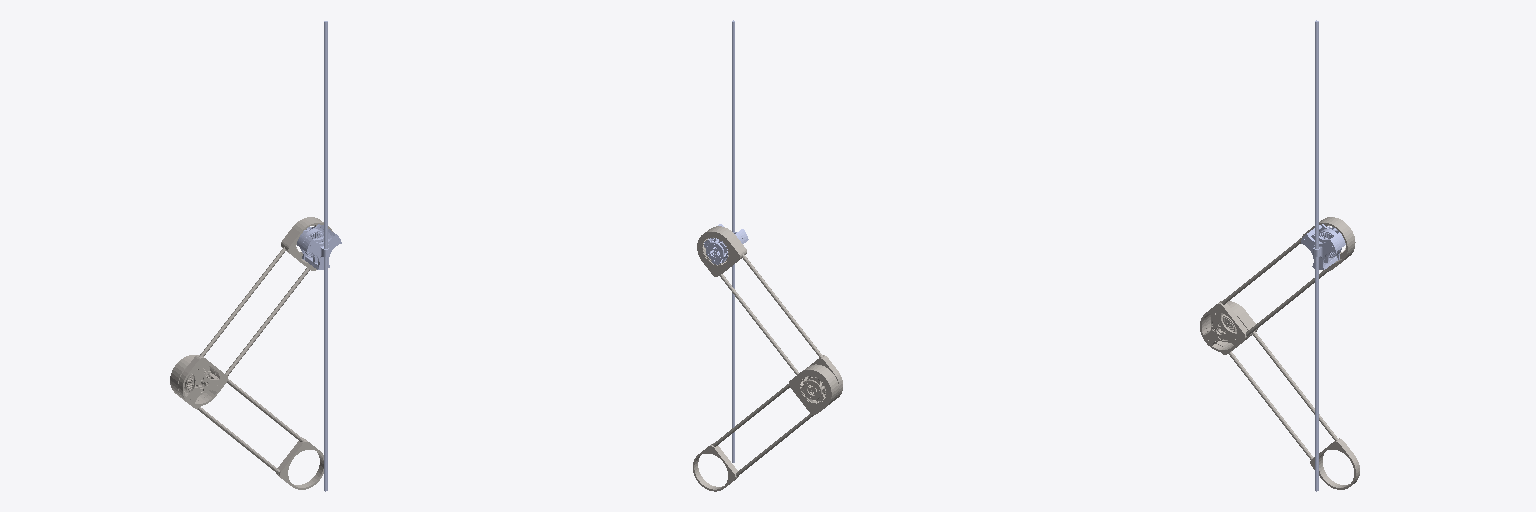
The robot description file, URDF, robot "Leg":
<?xml version="1.0" encoding="utf-8"?>
<!-- This URDF was automatically created by SolidWorks to URDF Exporter! Originally created by Stephen Brawner ([email redacted]) 
     Commit Version: 1.6.0-4-g7f85cfe  Build Version: 1.6.7995.38578
     For more information, please see http://wiki.ros.org/sw_urdf_exporter -->
<robot
  name="Leg">
  <link
    name="base_link">
    <inertial>
      <origin
        xyz="0 0 0.5"
        rpy="0 0 0" />
      <mass
        value="0.050265" />
      <inertia
        ixx="0.004189"
        ixy="-6.8932E-24"
        ixz="-1.7647E-21"
        iyy="0.004189"
        iyz="2.2058E-22"
        izz="4.0212E-07" />
    </inertial>
    <visual>
      <origin
        xyz="0 0 0"
        rpy="0 0 0" />
      <geometry>
        <mesh
          filename="package://Leg/meshes/base_link.STL" />
      </geometry>
      <material
        name="">
        <color
          rgba="0.79216 0.81961 0.93333 1" />
      </material>
    </visual>
    <collision>
      <origin
        xyz="0 0 0"
        rpy="0 0 0" />
      <geometry>
        <mesh
          filename="package://Leg/meshes/base_link.STL" />
      </geometry>
    </collision>
  </link>
  <link
    name="LinearGuide">
    <inertial>
      <origin
        xyz="-4.0944E-10 0.042042 0.50798"
        rpy="0 0 0" />
      <mass
        value="0.1155" />
      <inertia
        ixx="3.9031E-05"
        ixy="-4.83E-13"
        ixz="-1.2809E-12"
        iyy="6.9244E-05"
        iyz="-1.0031E-09"
        izz="3.9042E-05" />
    </inertial>
    <visual>
      <origin
        xyz="0 0 0"
        rpy="0 0 0" />
      <geometry>
        <mesh
          filename="package://Leg/meshes/LinearGuide.STL" />
      </geometry>
      <material
        name="">
        <color
          rgba="0.79216 0.81961 0.93333 1" />
      </material>
    </visual>
    <collision>
      <origin
        xyz="0 0 0"
        rpy="0 0 0" />
      <geometry>
        <mesh
          filename="package://Leg/meshes/LinearGuide.STL" />
      </geometry>
    </collision>
  </link>
  <joint
    name="LinearGuide"
    type="prismatic">
    <origin
      xyz="0 0 0"
      rpy="0 0 0" />
    <parent
      link="base_link" />
    <child
      link="LinearGuide" />
    <axis
      xyz="0 0 1" />
    <limit
      lower="0"
      upper="1"
      effort="0"
      velocity="0" />
  </joint>
  <link
    name="Rot1">
    <inertial>
      <origin
        xyz="-0.15198 0.036958 -0.152"
        rpy="0 0 0" />
      <mass
        value="0.19486" />
      <inertia
        ixx="0.00014931"
        ixy="-1.0633E-06"
        ixz="-2.2254E-05"
        iyy="0.00027811"
        iyz="-1.0754E-06"
        izz="0.00014918" />
    </inertial>
    <visual>
      <origin
        xyz="0 0 0"
        rpy="0 0 0" />
      <geometry>
        <mesh
          filename="package://Leg/meshes/Rot1.STL" />
      </geometry>
      <material
        name="">
        <color
          rgba="0.77647 0.75686 0.73725 1" />
      </material>
    </visual>
    <collision>
      <origin
        xyz="0 0 0"
        rpy="0 0 0" />
      <geometry>
        <mesh
          filename="package://Leg/meshes/Rot1.STL" />
      </geometry>
    </collision>
  </link>
  <joint
    name="Rot1"
    type="revolute">
    <origin
      xyz="0 0.031 0.508"
      rpy="0 0 0" />
    <parent
      link="LinearGuide" />
    <child
      link="Rot1" />
    <axis
      xyz="0 -1 0" />
    <limit
      lower="-1.5708"
      upper="1.5708"
      effort="3"
      velocity="300" />
  </joint>
  <link
    name="Rot2">
    <inertial>
      <origin
        xyz="0.073904 0.030122 -0.073868"
        rpy="0 0 0" />
      <mass
        value="0.10648" />
      <inertia
        ixx="0.00011939"
        ixy="1.6228E-06"
        ixz="2.1114E-05"
        iyy="0.00022638"
        iyz="-1.6108E-06"
        izz="0.00011952" />
    </inertial>
    <visual>
      <origin
        xyz="0 0 0"
        rpy="0 0 0" />
      <geometry>
        <mesh
          filename="package://Leg/meshes/Rot2.STL" />
      </geometry>
      <material
        name="">
        <color
          rgba="0.77647 0.75686 0.73725 1" />
      </material>
    </visual>
    <collision>
      <origin
        xyz="0 0 0"
        rpy="0 0 0" />
      <geometry>
        <mesh
          filename="package://Leg/meshes/Rot2.STL" />
      </geometry>
    </collision>
  </link>
  <joint
    name="Rot2"
    type="revolute">
    <origin
      xyz="-0.24607 0.025 -0.24607"
      rpy="0 0 0" />
    <parent
      link="Rot1" />
    <child
      link="Rot2" />
    <axis
      xyz="0 -1 0" />
    <limit
      lower="-1.5708"
      upper="1.5708"
      effort="3"
      velocity="300" />
  </joint>
</robot>

--- What the picture shows (computed from the rendered views, not written in the file) ---
The picture shows the robot from 3 angles, left to right: view 1: azimuth 30°, elevation 25°; view 2: azimuth 150°, elevation 25°; view 3: azimuth 330°, elevation 25°; orthographic projection.
Robot: Leg — 4 links, 3 joints (2 revolute, 1 prismatic); root link base_link; default pose: all joints at 0.
Links seen in each view (by area): view 1: Rot1, Rot2, base_link, LinearGuide; view 2: Rot1, Rot2, base_link, LinearGuide; view 3: Rot1, Rot2, base_link, LinearGuide.
Link boxes in pixels (bbox=[...]): Rot1: bbox=[178, 217, 332, 405]; Rot2: bbox=[170, 355, 323, 489]; base_link: bbox=[324, 21, 327, 491]; LinearGuide: bbox=[297, 224, 341, 269]; Rot1: bbox=[697, 226, 842, 401]; Rot2: bbox=[693, 364, 838, 491]; base_link: bbox=[732, 20, 734, 462]; LinearGuide: bbox=[704, 224, 748, 264]; Rot1: bbox=[1200, 217, 1355, 351]; Rot2: bbox=[1206, 301, 1359, 489]; base_link: bbox=[1315, 20, 1318, 491]; LinearGuide: bbox=[1301, 224, 1345, 269].
Size in the robot's own frame: 0.334 by 0.109 by 1.03 metres.
4 mesh visuals loaded from 4 distinct referenced files (4 binary STL).
